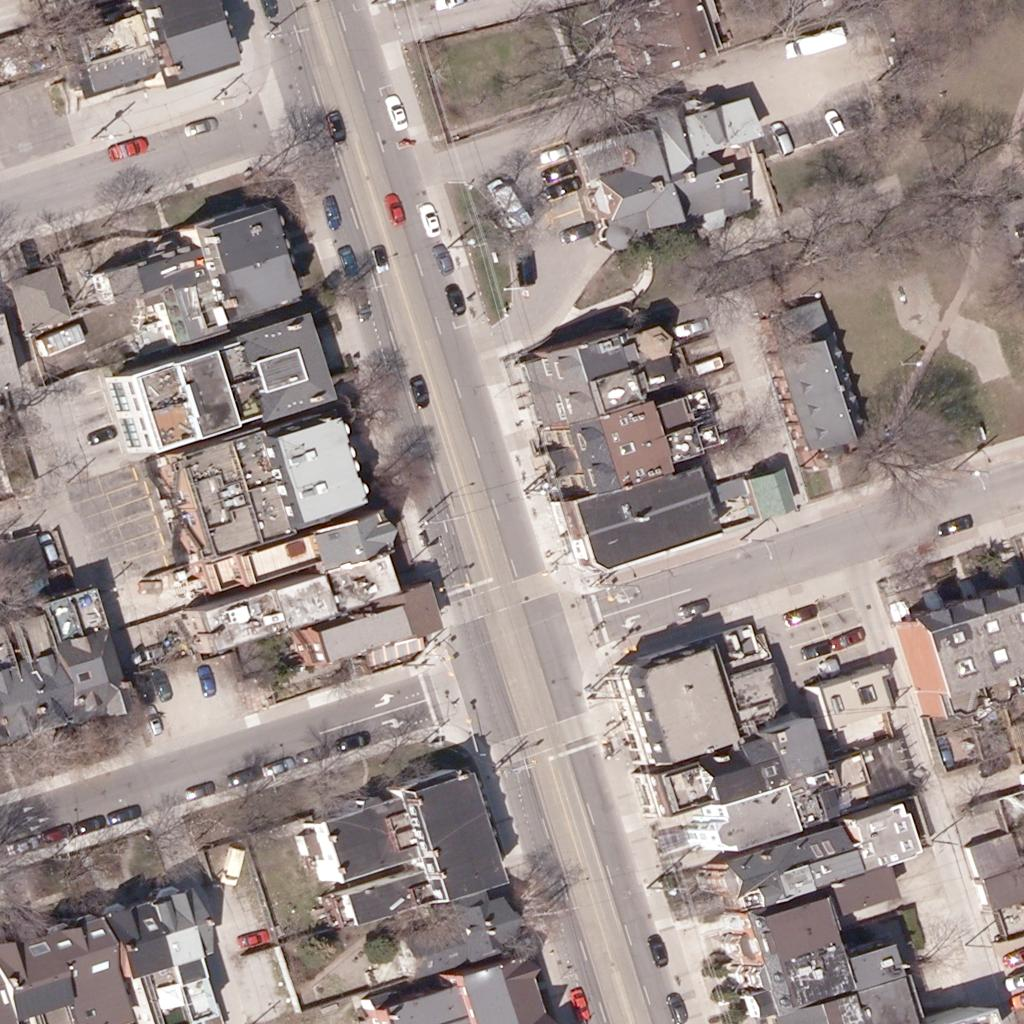car: (381, 94, 415, 128), (319, 106, 353, 140), (820, 107, 854, 141), (182, 108, 216, 142), (183, 108, 217, 142), (766, 120, 800, 154), (112, 131, 146, 165), (111, 132, 145, 166), (536, 136, 570, 170), (542, 152, 576, 186), (542, 169, 576, 203), (312, 193, 346, 227), (380, 193, 414, 227), (415, 205, 449, 239), (560, 213, 594, 247), (363, 240, 397, 274), (330, 241, 364, 275), (428, 246, 462, 280), (346, 285, 380, 319), (673, 312, 707, 346), (404, 375, 438, 409), (85, 417, 119, 451), (714, 417, 748, 451), (940, 507, 974, 541), (33, 530, 67, 564), (679, 590, 713, 624), (780, 596, 814, 630), (830, 621, 864, 655), (797, 633, 831, 667), (130, 638, 164, 672), (187, 659, 221, 693), (143, 665, 177, 699), (126, 672, 160, 706), (138, 702, 172, 736), (136, 705, 170, 739), (337, 722, 371, 756), (927, 736, 961, 770), (296, 737, 330, 771), (976, 747, 1010, 781), (262, 749, 296, 783), (229, 759, 263, 793), (181, 774, 215, 808), (107, 796, 141, 830), (70, 808, 104, 842), (40, 816, 74, 850), (6, 827, 40, 861), (216, 852, 250, 886), (235, 921, 269, 955), (642, 931, 676, 965), (563, 987, 597, 1021), (662, 992, 696, 1024), (251, 0, 285, 16)
